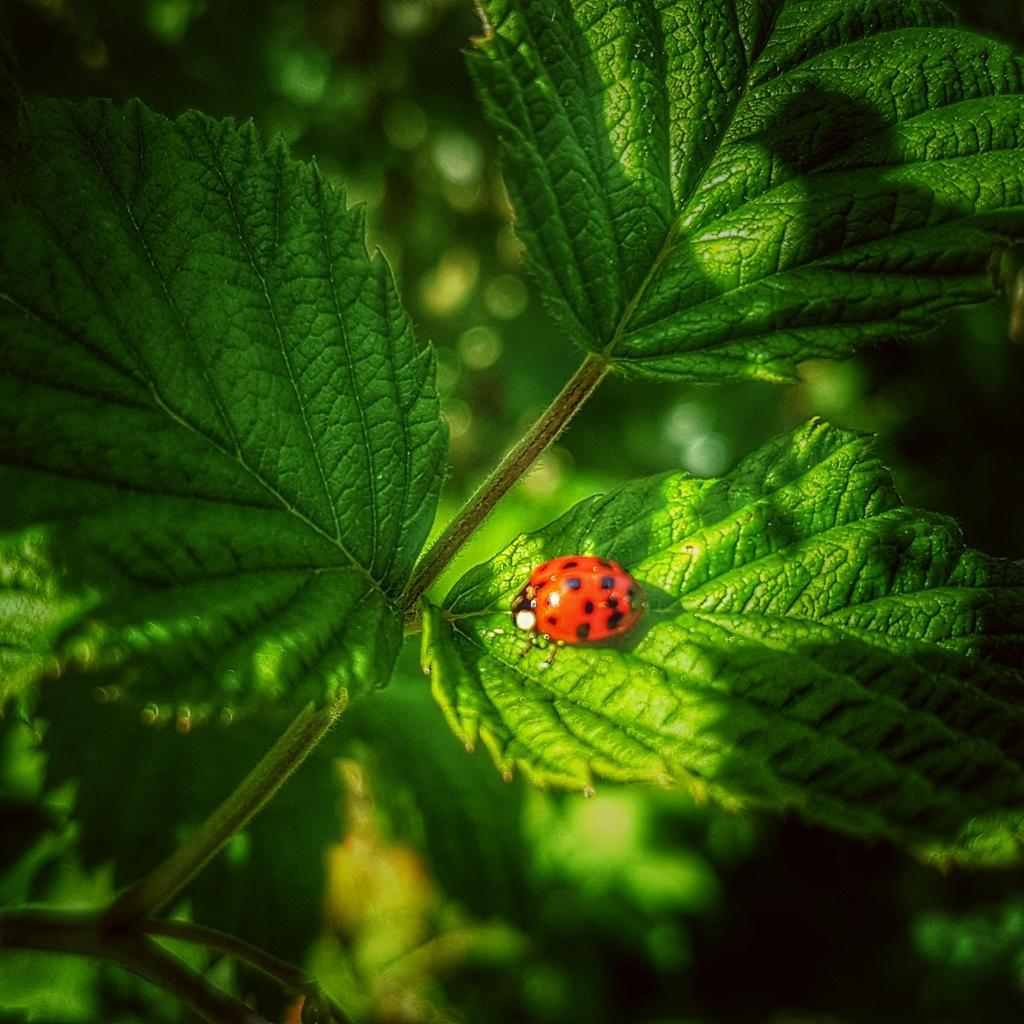ladybug: (506, 554, 651, 651)
